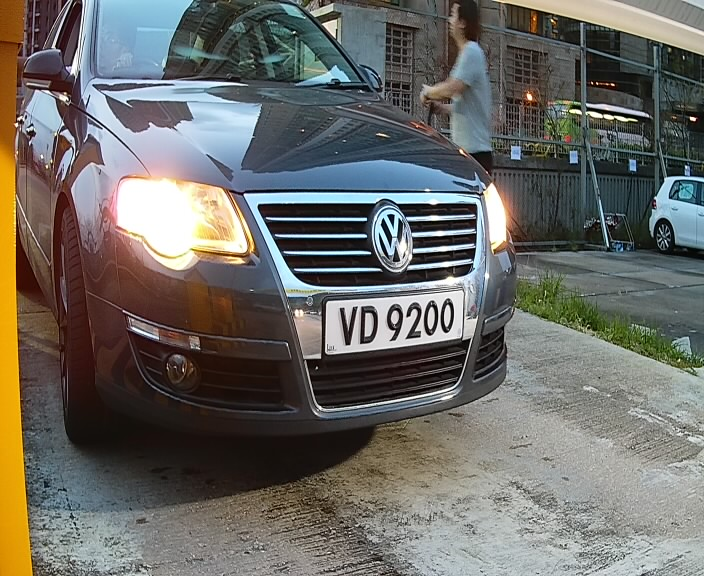Car: (31, 0, 542, 484)
License Plate: (314, 286, 480, 364)
